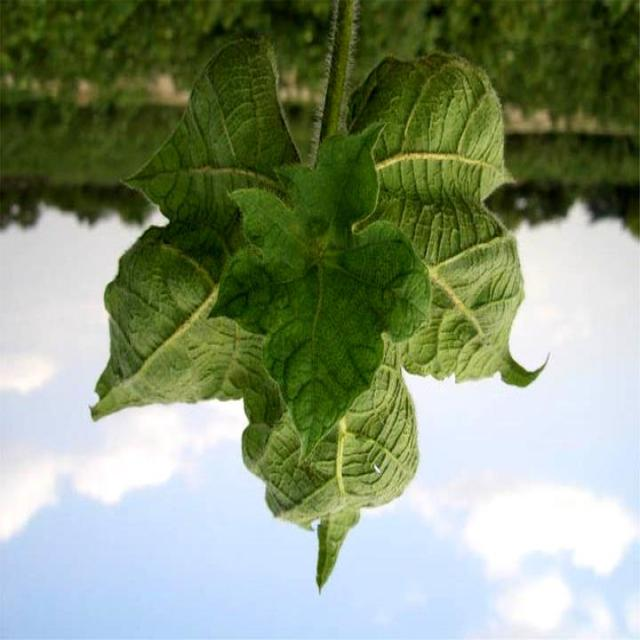Leaf Curl Virus: (185, 101, 494, 447)
